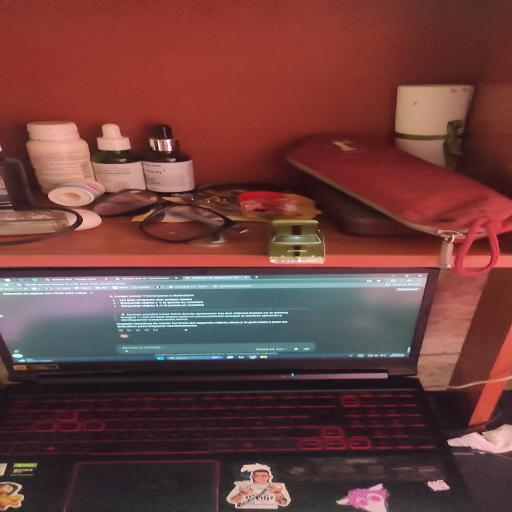Carrito: (269, 220, 325, 263)
